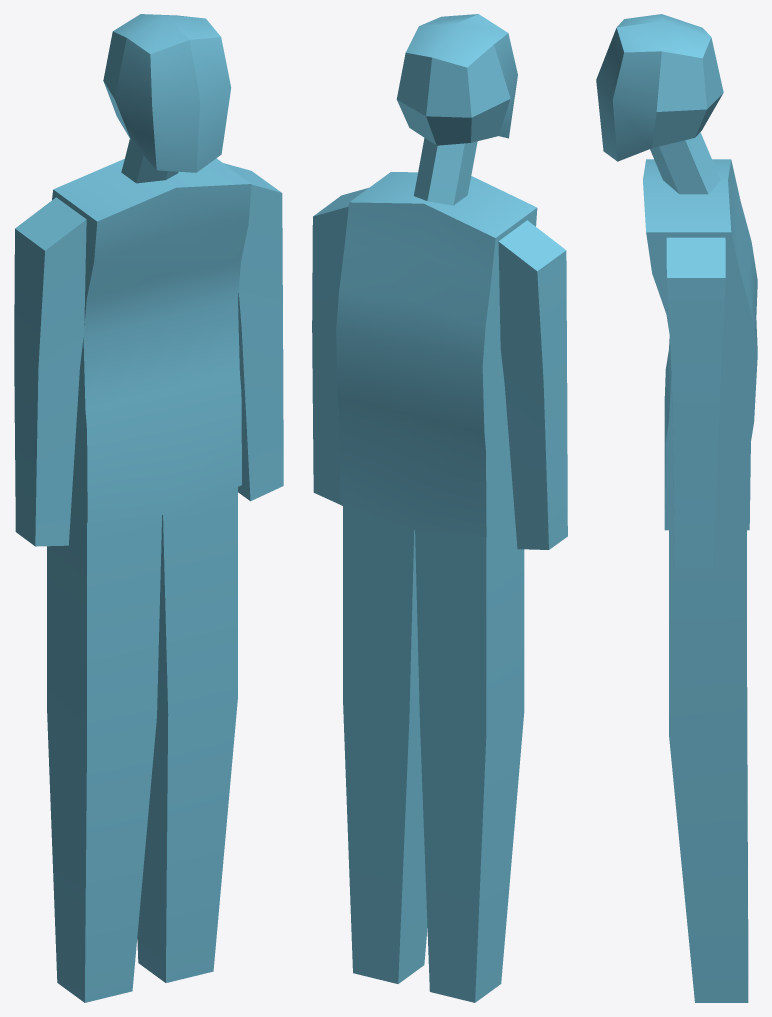
Rendered from man01.glb.
3 views of the same model, side by side, from view 1: azimuth 30°, elevation 25°; view 2: azimuth 150°, elevation 25°; view 3: azimuth 270°, elevation 25° (orthographic). The views are drawn at different scales.
Visible parts, largest first — view 1: man01_col; view 2: man01_col; view 3: man01_col.
Part boxes in pixels (x1,y1,x2,y2): man01_col: (14,14,283,1002); man01_col: (312,14,567,1002); man01_col: (596,14,757,1002).
Bounding box in the file's own units: 3.22 × 12.18 × 1.87.
